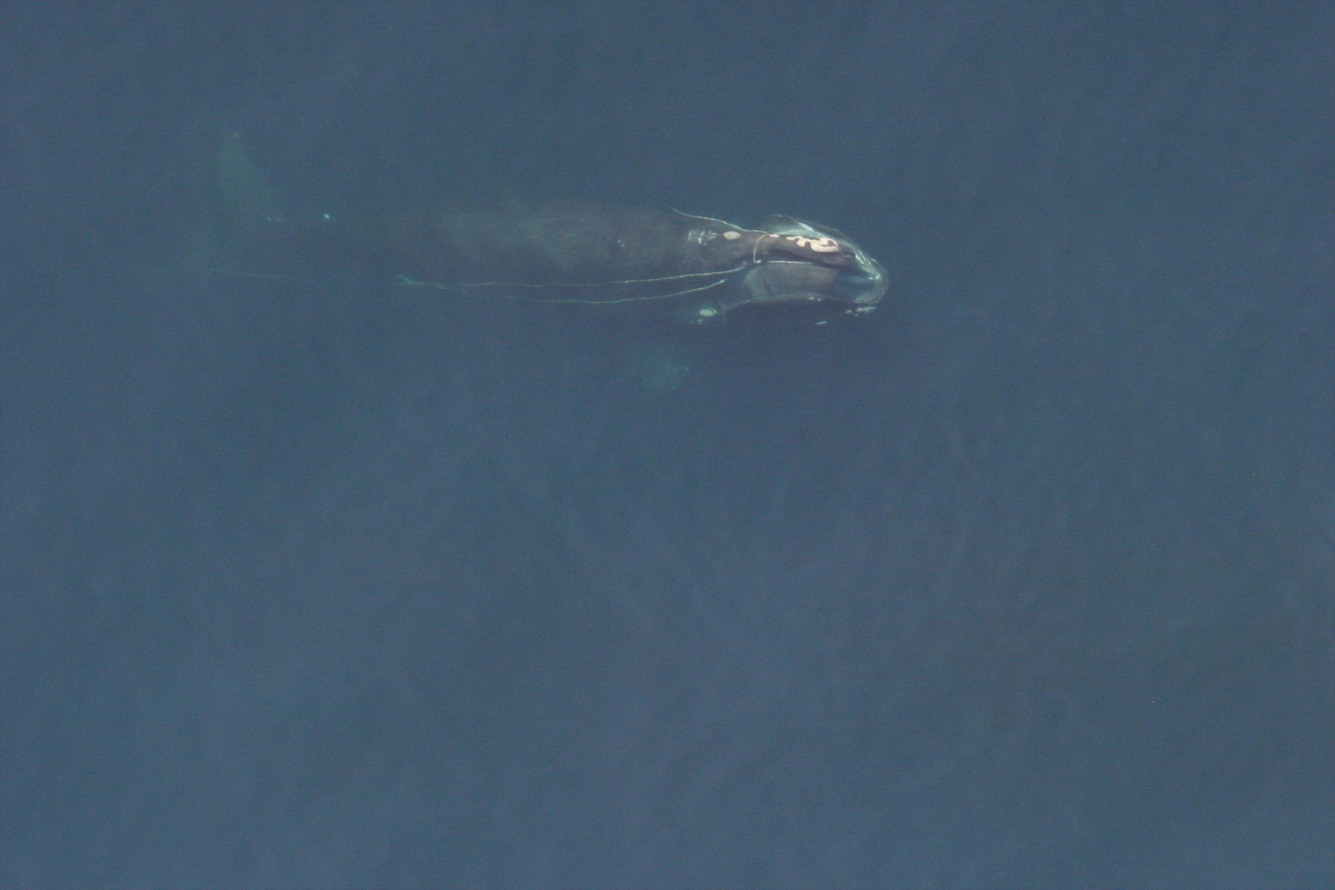whale: (185, 121, 894, 410)
